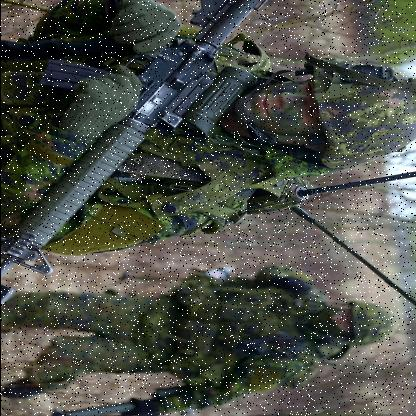rifle: (0, 2, 271, 300)
